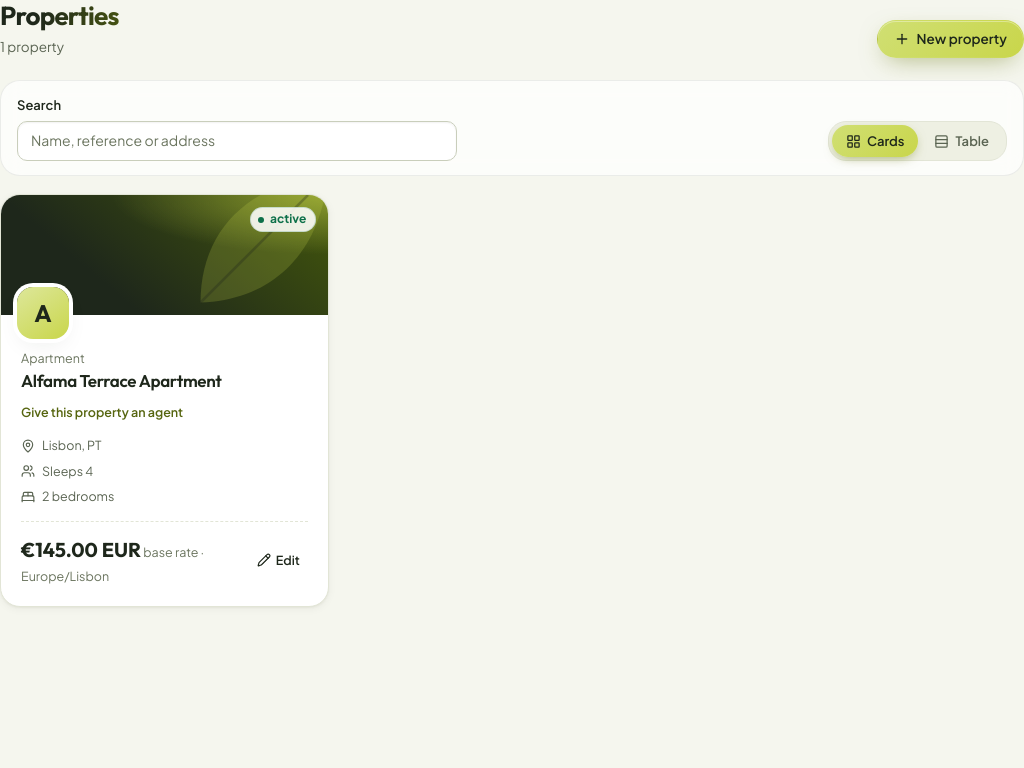
Test case: explains that missing source amenities are unknown while displaying imported checks
The image size is (1024, 768).
Click the button "Edit" at (278, 560), box top-left (248, 545), bottom-right (308, 575)
(page scrolled)
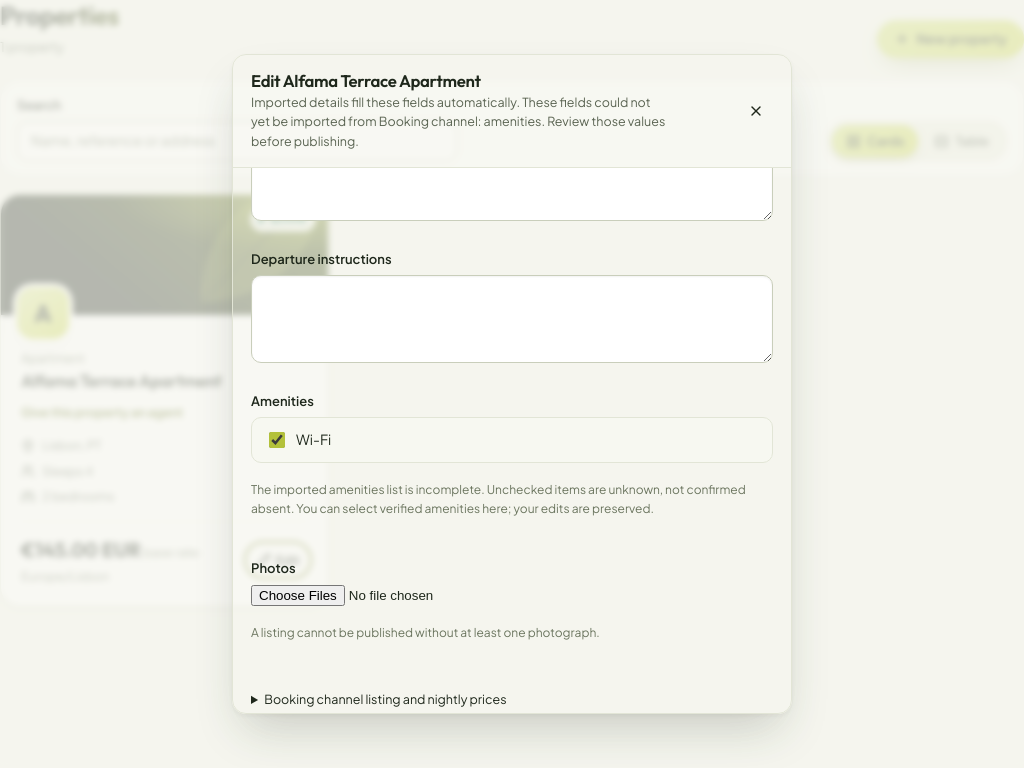
expect the text "Unchecked items are unknown" is shown: met, box top-left (251, 482), bottom-right (746, 516)
expect the checkbox labelled "Wi-Fi" is checked: met, box top-left (269, 432), bottom-right (285, 448)
